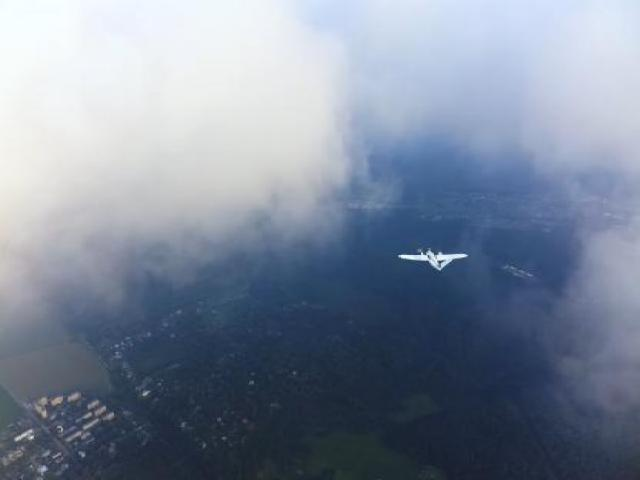uav: (397, 244, 471, 273)
